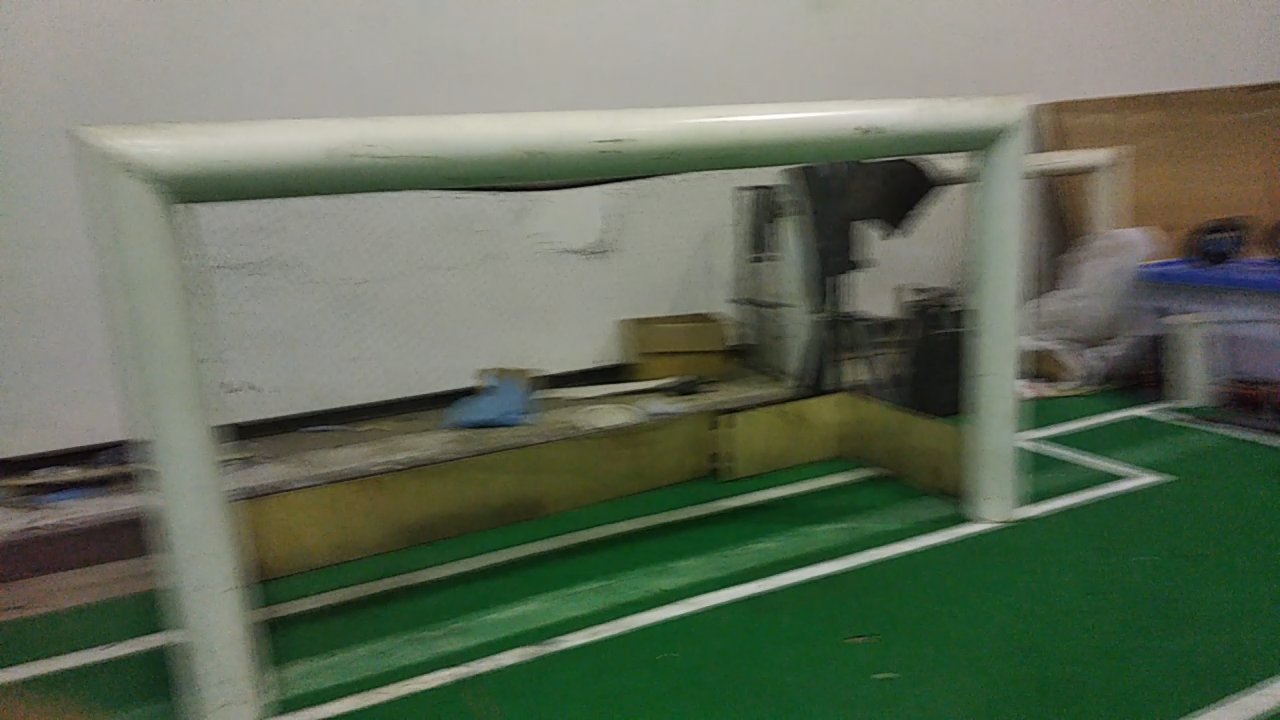gawang: (52, 93, 1066, 712)
